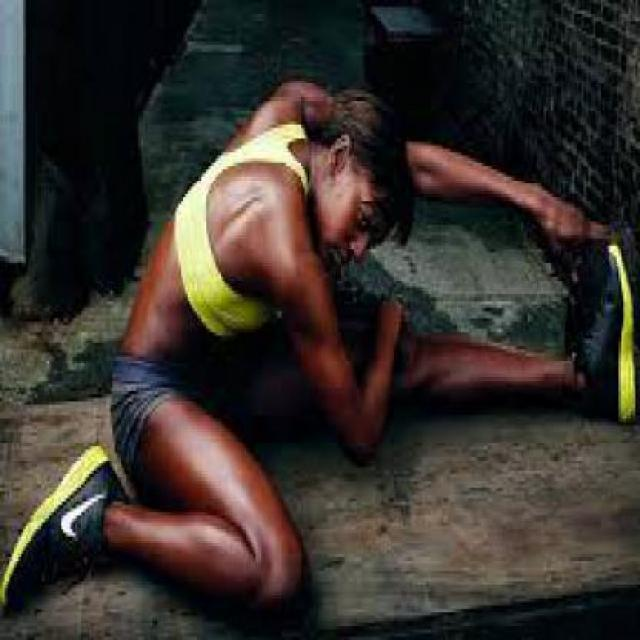Nike: (54, 484, 107, 537)
